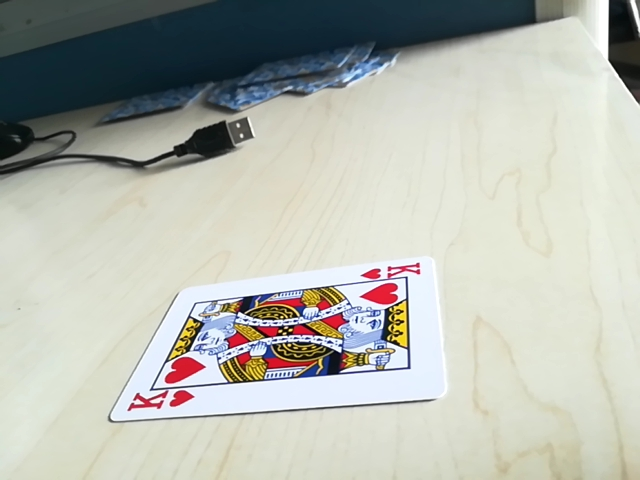hx k: (121, 387, 200, 416), (360, 260, 426, 285)
